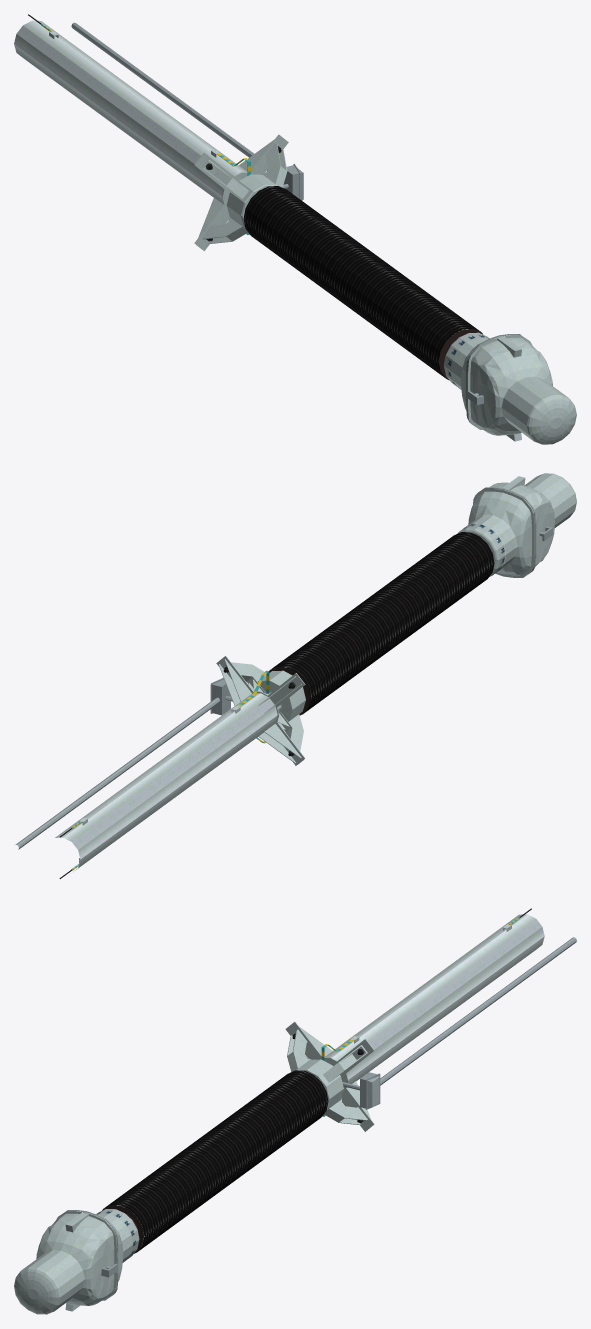
The model's file is ct-11m00000000894344-geode.glb.
3 renders of one model, top to bottom at view 1: azimuth 30°, elevation 25°; view 2: azimuth 150°, elevation 25°; view 3: azimuth 330°, elevation 25°, orthographic. The views are drawn at different scales.
Visible parts, largest first — view 1: Node; view 2: Node; view 3: Node.
Part boxes in pixels (x1=…): Node: x1=14, y1=14, x2=576, y2=444; Node: x1=15, y1=473, x2=576, y2=878; Node: x1=14, y1=908, x2=576, y2=1314.
Bounding box in the file's own units: 1.11 × 1.04 × 10.07.
Materials: 13 (13 with a texture image).
